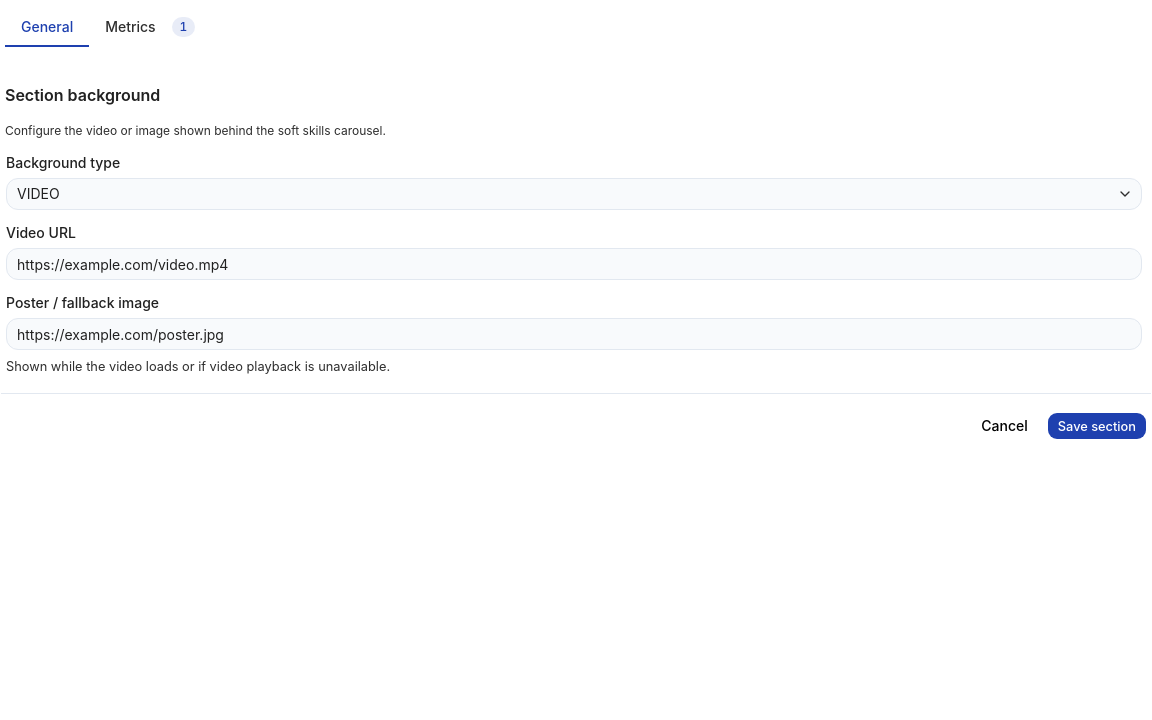
Scenario: SoftSkillsSectionForm › renders metrics tab and handles adding a metric
This screenshot has width=1152, height=720.
Click the tab "Metrics 1". click: (150, 27)
box: [89, 7, 211, 47]
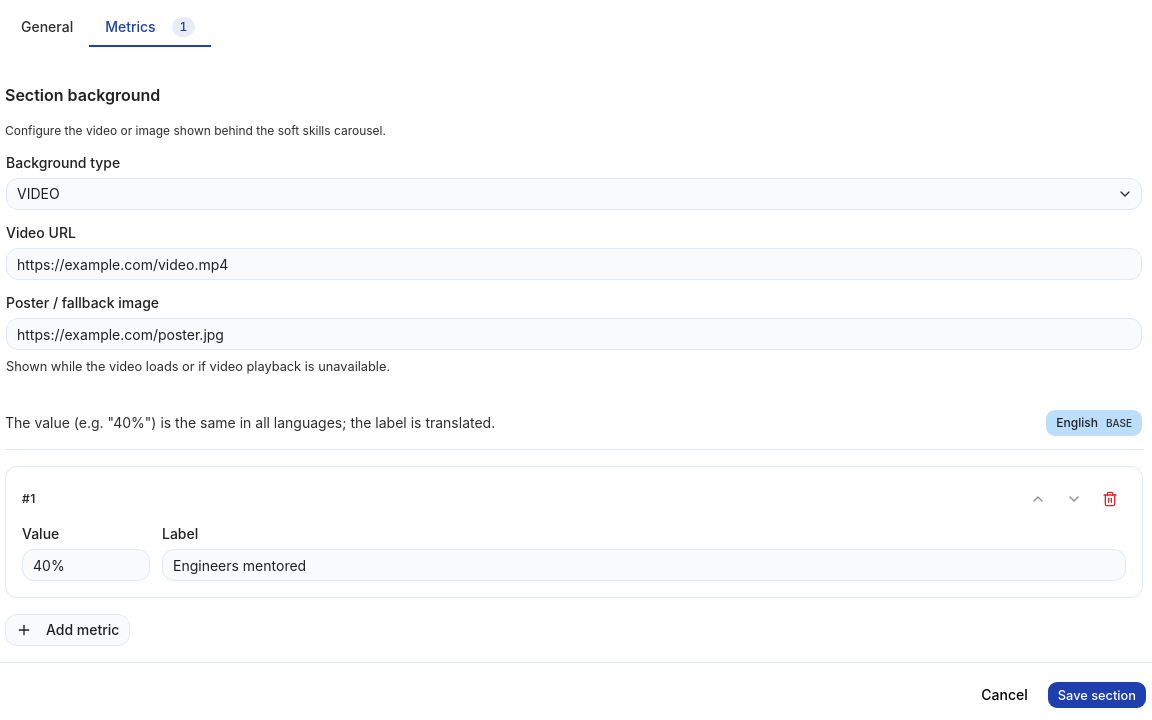
Result: the field showing "40%" is shown at [22, 549, 150, 581]
Result: the field showing "Engineers mentored" is shown at [162, 549, 1126, 581]
Click the button "Add metric". click: (68, 630)
box: [5, 614, 130, 646]
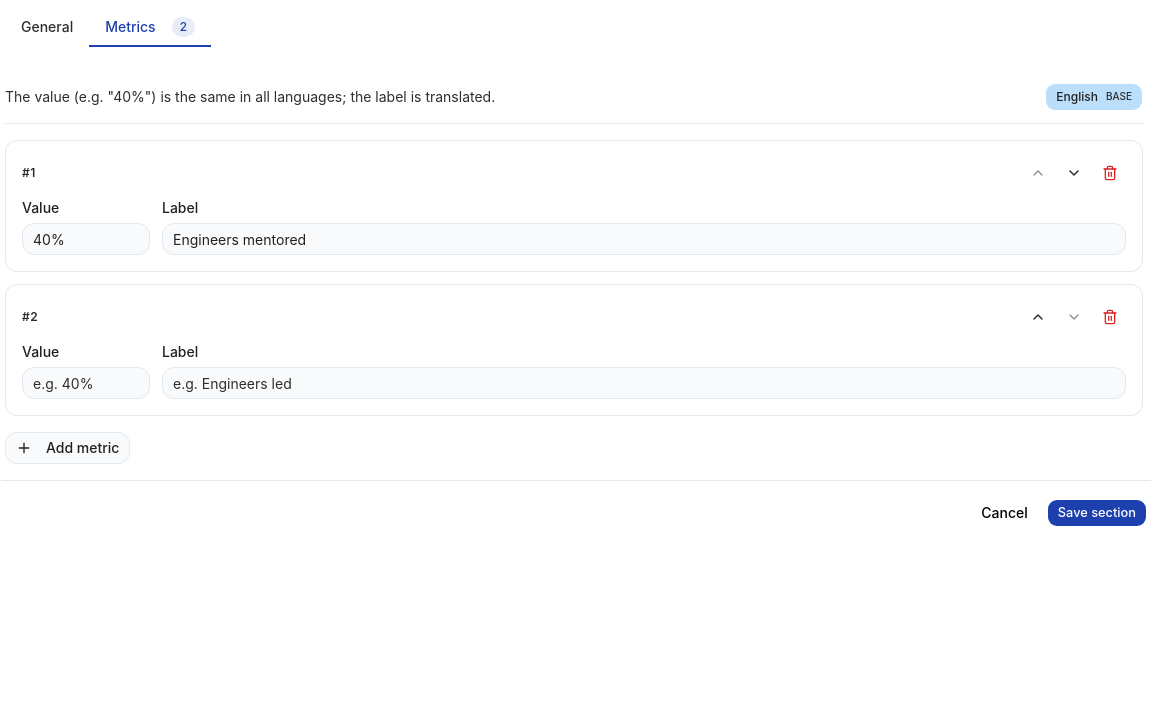
Result: the text "#2" is shown at [22, 309, 38, 325]
